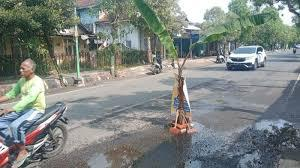Pothole: (180, 138, 268, 168), (87, 138, 167, 168), (237, 108, 300, 146)
